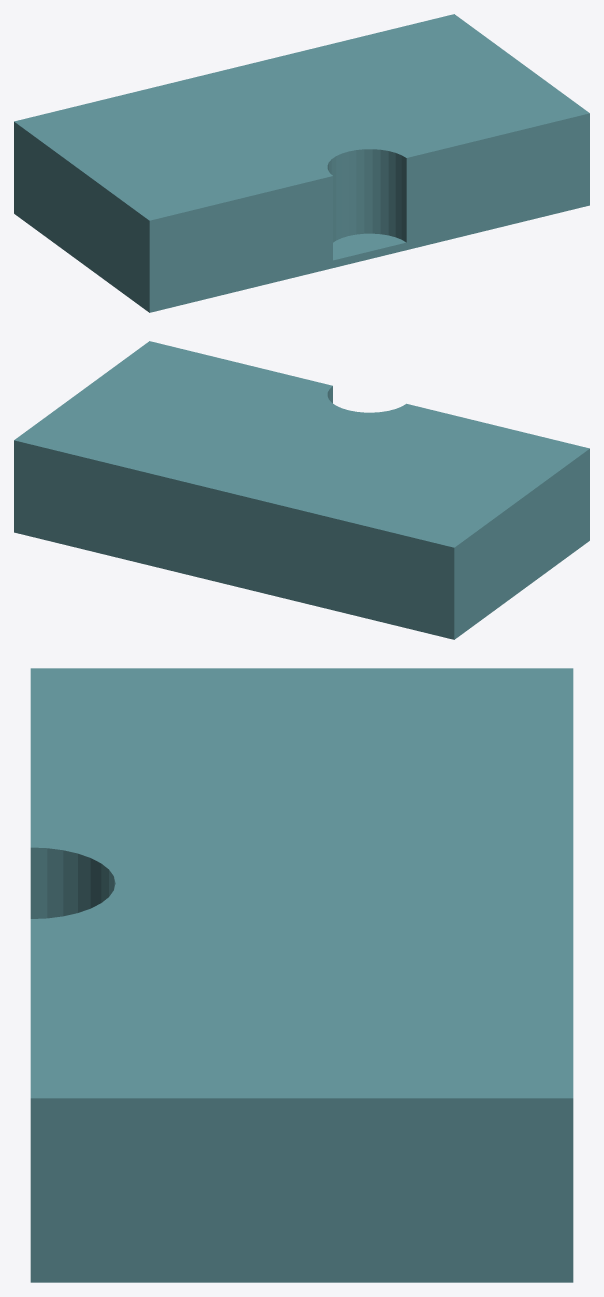
File: runner-cut.glb
3 renders of one model, top to bottom at view 1: azimuth 30°, elevation 25°; view 2: azimuth 150°, elevation 25°; view 3: azimuth 270°, elevation 25°, orthographic. The views are drawn at different scales.
Visible parts, largest first — view 1: Right-runner-spacer-section; view 2: Right-runner-spacer-section; view 3: Right-runner-spacer-section.
Boxes of the visible parts, x1,y1,x2,y2 form: Right-runner-spacer-section: (14, 14, 589, 312); Right-runner-spacer-section: (14, 341, 589, 639); Right-runner-spacer-section: (30, 668, 573, 1282).
Bounding box in the file's own units: 0.03 × 0.006 × 0.016.
